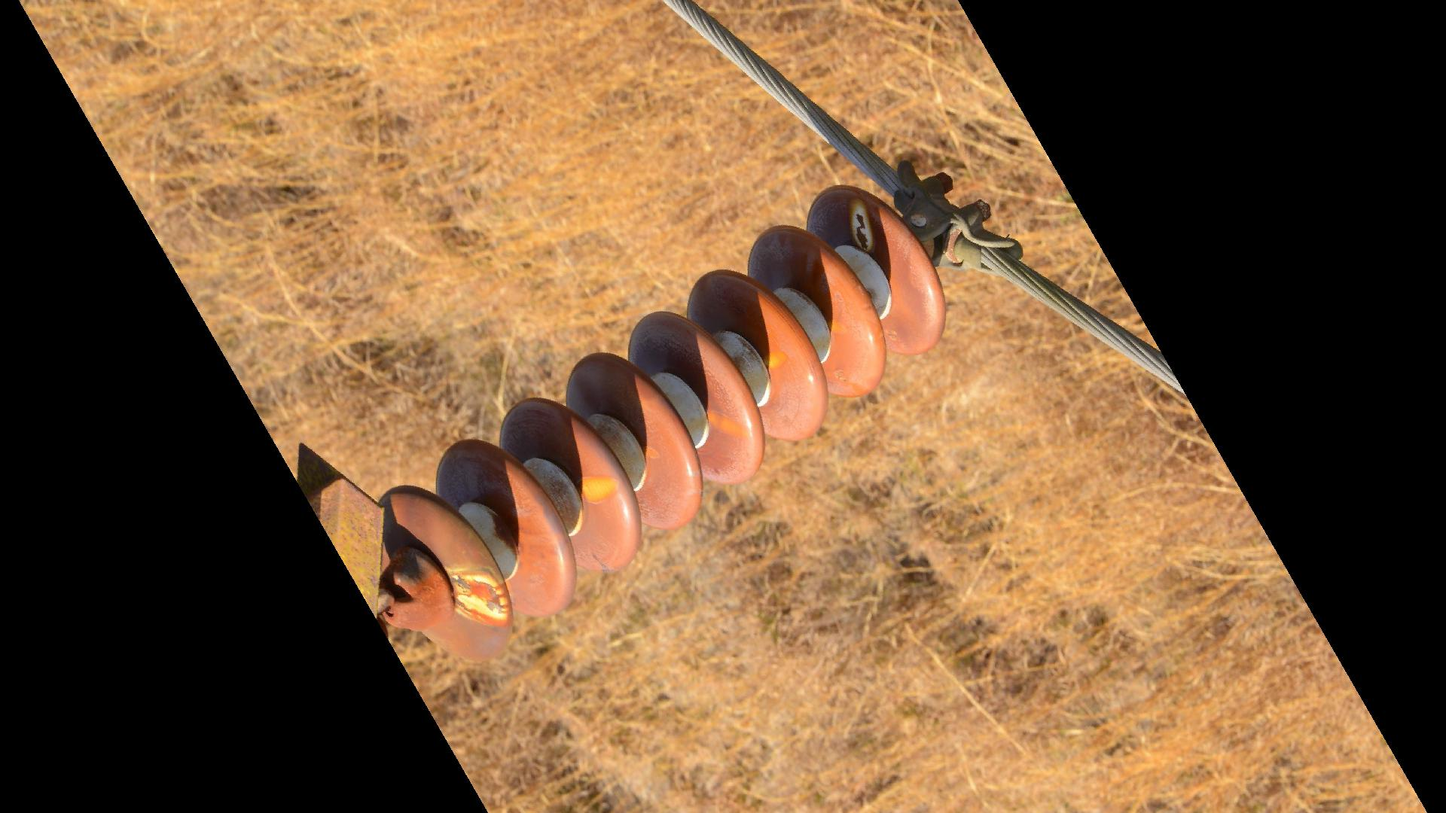insulator: (370, 181, 955, 674)
insulator_flashover: (443, 562, 517, 632), (846, 197, 875, 254), (575, 472, 621, 507), (705, 406, 751, 440), (761, 348, 789, 370)
